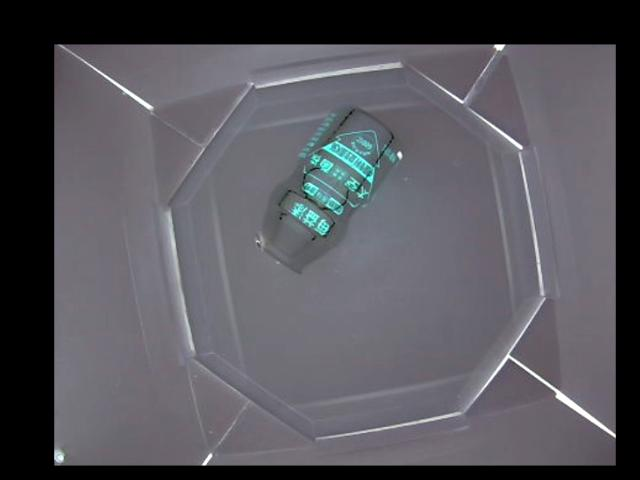Bottle: (250, 102, 406, 276)
